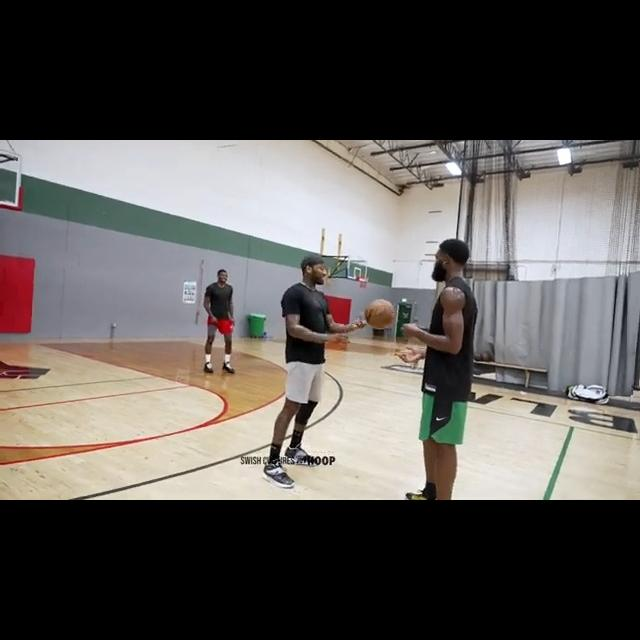basketball: (364, 298, 396, 329)
hoop: (357, 277, 368, 290)
person: (262, 255, 364, 490), (396, 237, 482, 500), (199, 267, 238, 375)
